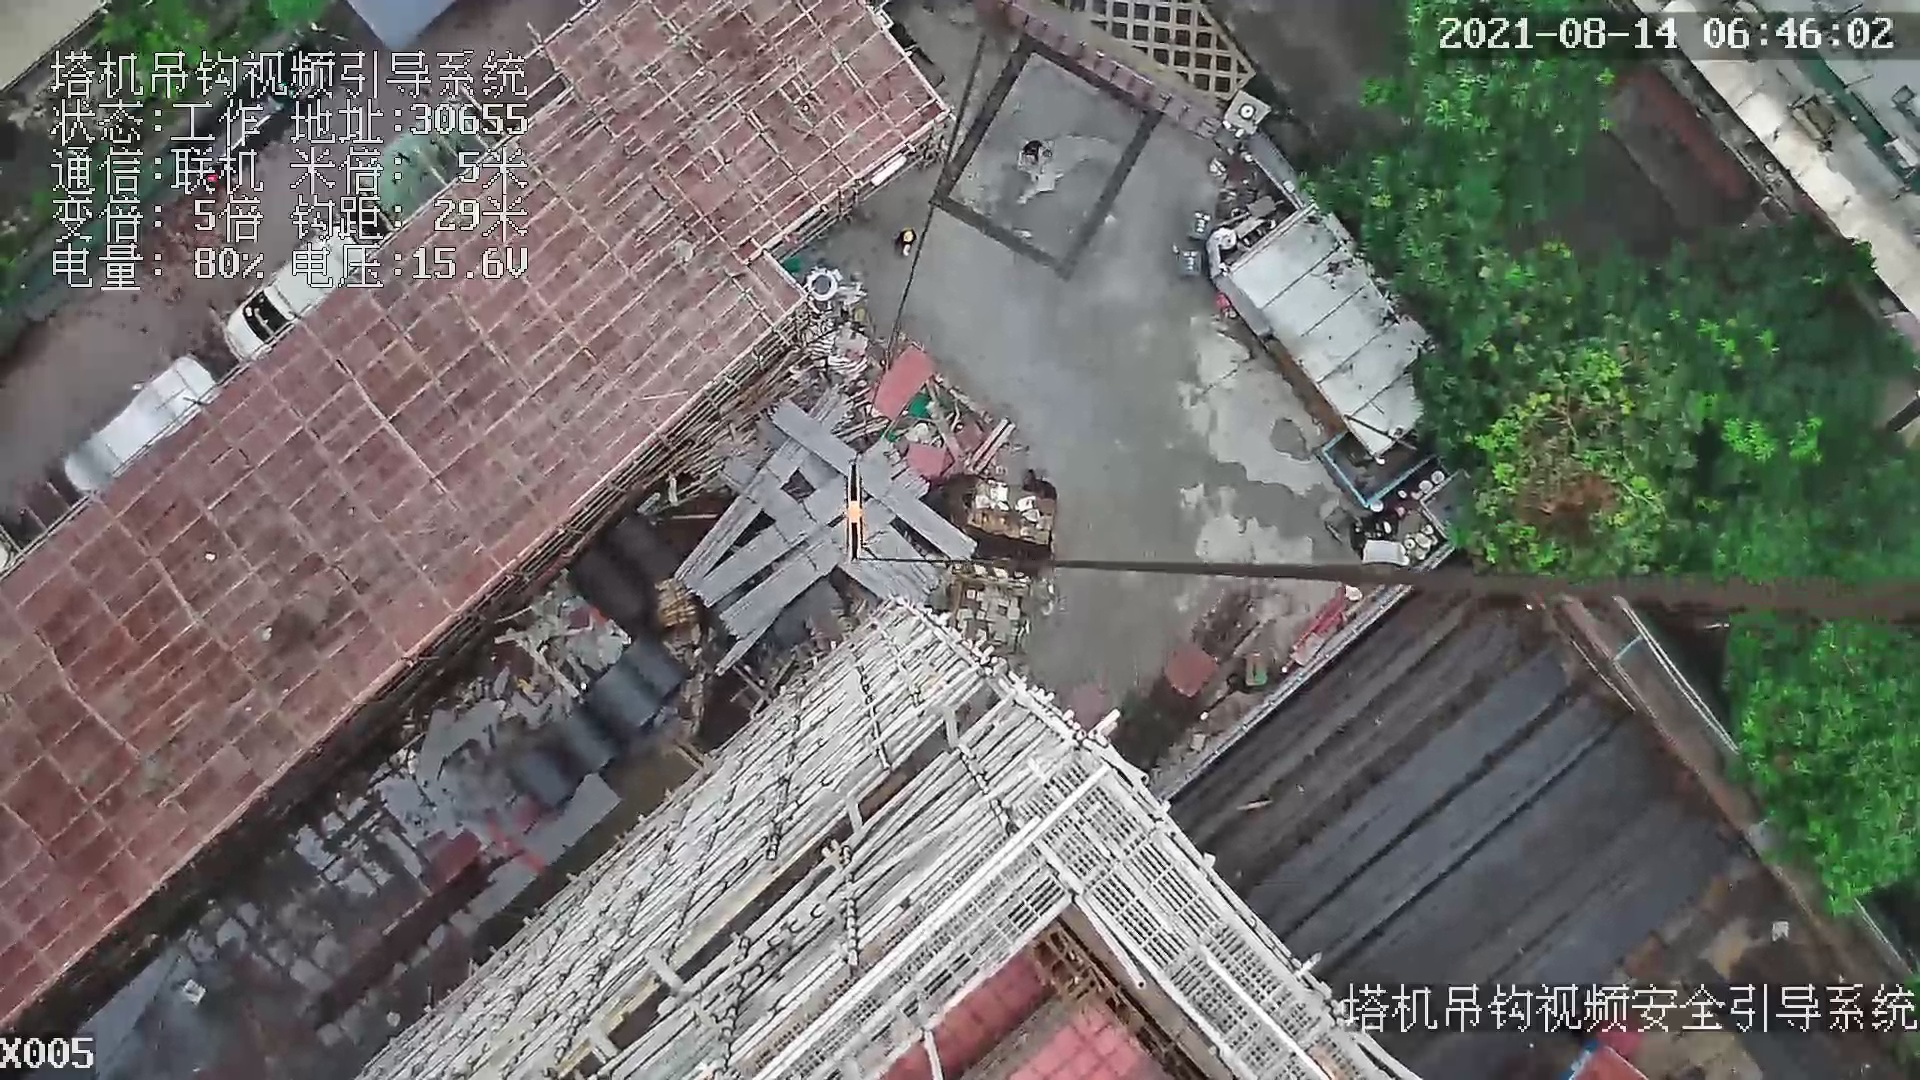helmet: (903, 232, 913, 243)
hook: (836, 463, 879, 565)
person: (1014, 132, 1052, 176), (891, 224, 925, 261)
